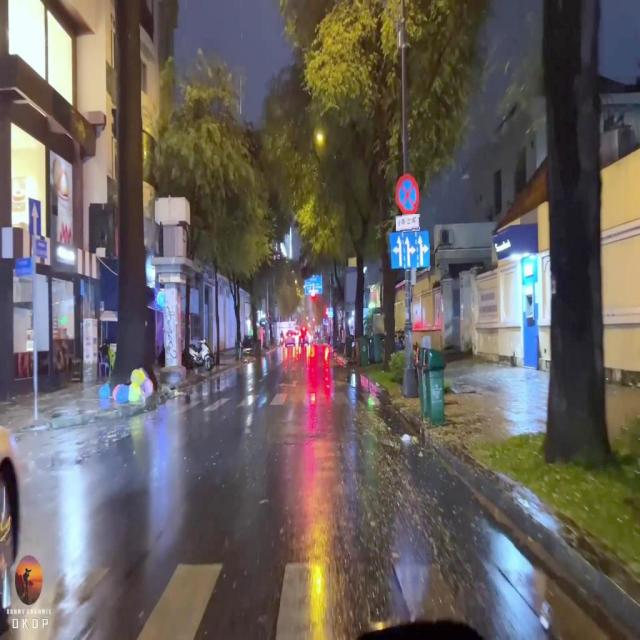cam_dung_xe_va_do_xe: (396, 171, 420, 216)
huong_di_tren_moi_lan_duong_theo_vach_ke_duong: (389, 229, 430, 271)
khac: (396, 214, 421, 232)
